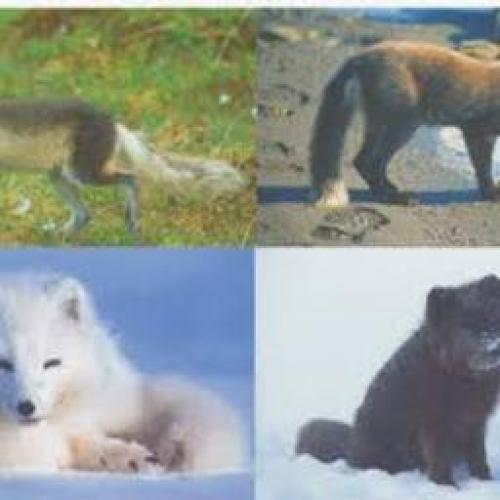arctic_fox-endangered: (0, 269, 249, 483), (281, 272, 500, 485), (0, 96, 242, 222), (304, 50, 500, 205)
